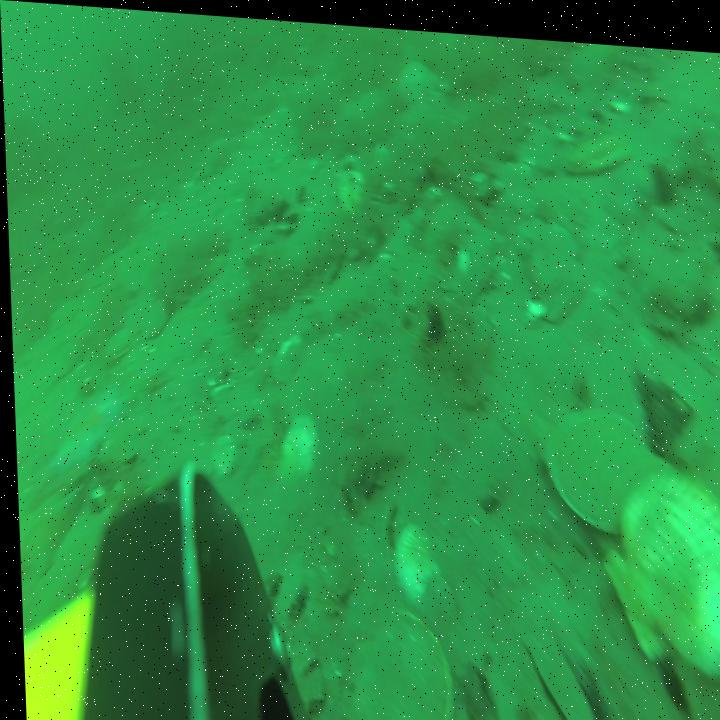scallop: (598, 457, 720, 669), (543, 399, 674, 521), (345, 608, 449, 720), (390, 517, 442, 608), (528, 214, 571, 290), (564, 120, 629, 169), (275, 410, 318, 479), (542, 255, 586, 319), (269, 327, 303, 381), (139, 288, 171, 341), (421, 565, 453, 613), (334, 167, 363, 216), (99, 325, 129, 364), (210, 434, 232, 479)
starfish: (31, 386, 130, 487), (14, 479, 87, 584), (393, 50, 437, 95)
